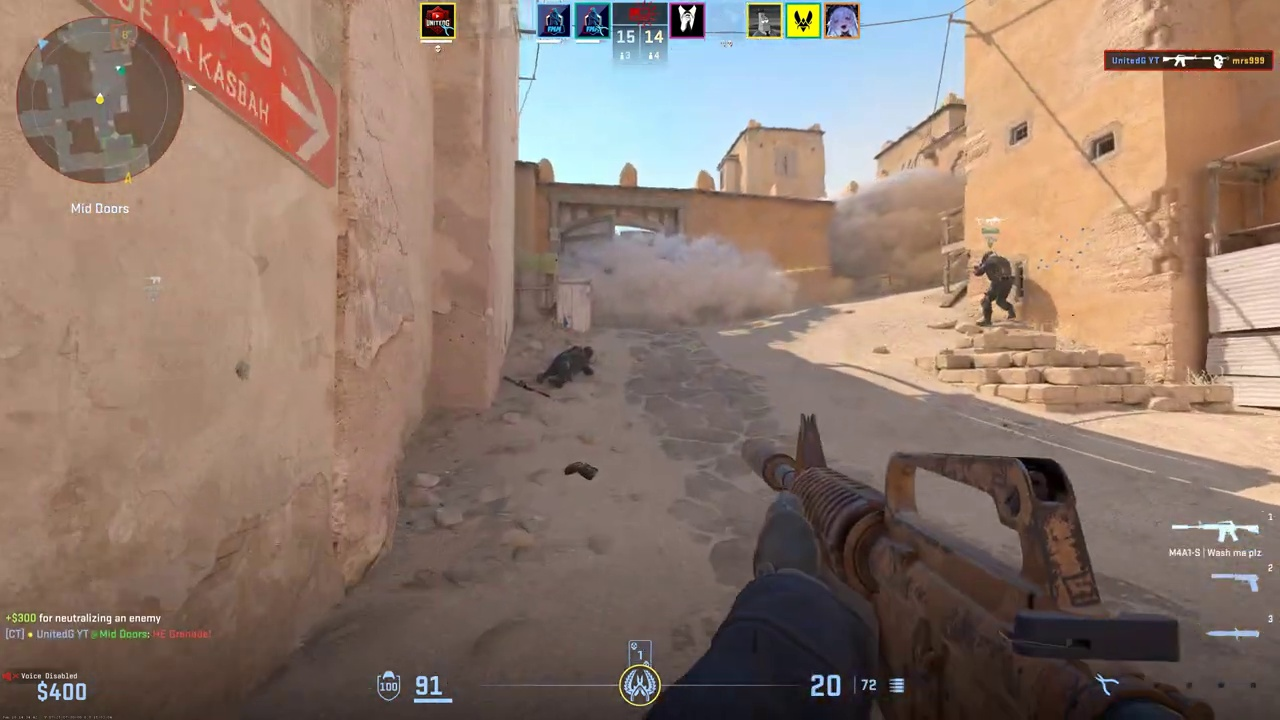CT: (975, 251, 1013, 324)
